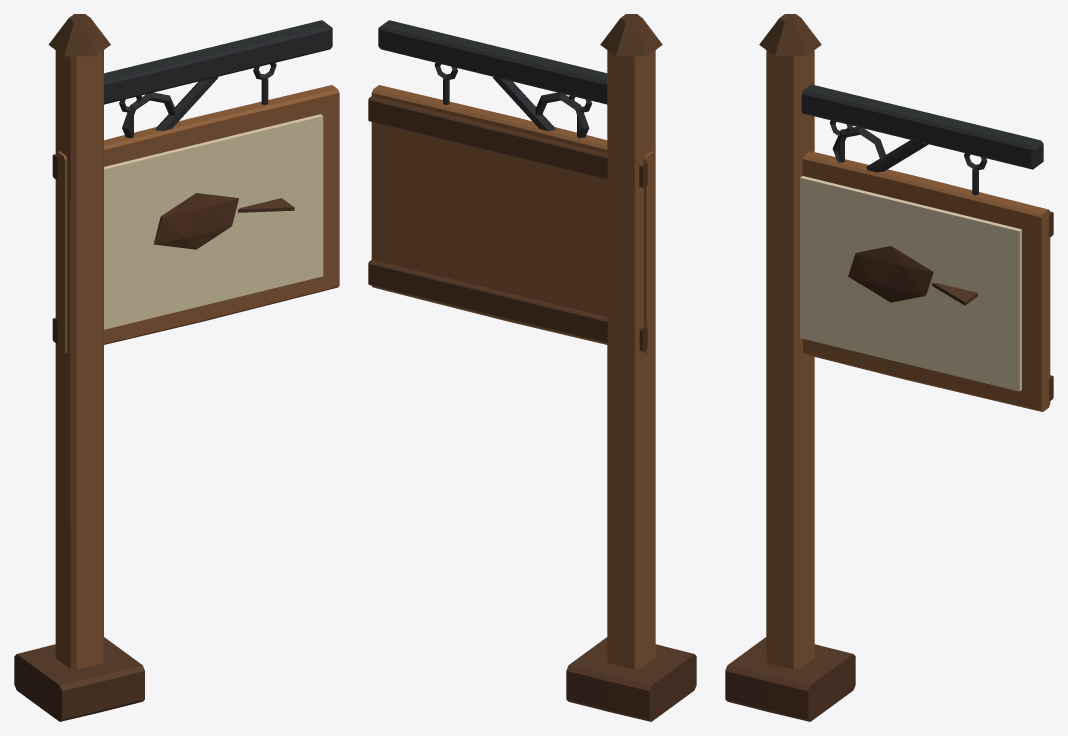
File: prop_signboard_hanging_a.glb
3 views of the same model, side by side, from view 1: azimuth 30°, elevation 25°; view 2: azimuth 150°, elevation 25°; view 3: azimuth 330°, elevation 25° (orthographic).
Visible parts, largest first — view 1: sign_board, sign_board_face, sign_board_batten_0, sign_arm; view 2: sign_board, sign_board_batten_0, sign_arm; view 3: sign_board, sign_board_face, sign_board_batten_0, sign_arm.
Boxes of the visible parts, left/top/right/bottom form: sign_board: left=55, top=50, right=339, bottom=669; sign_board_face: left=104, top=114, right=323, bottom=329; sign_board_batten_0: left=14, top=14, right=294, bottom=721; sign_arm: left=104, top=20, right=332, bottom=138; sign_board: left=371, top=50, right=655, bottom=669; sign_board_batten_0: left=368, top=14, right=696, bottom=721; sign_arm: left=378, top=20, right=607, bottom=138; sign_board: left=766, top=50, right=1050, bottom=669; sign_board_face: left=800, top=176, right=1021, bottom=391; sign_board_batten_0: left=725, top=14, right=1053, bottom=721; sign_arm: left=801, top=84, right=1043, bottom=195.
Bounding box in the file's own units: 0.9301 × 2.03 × 0.26.
